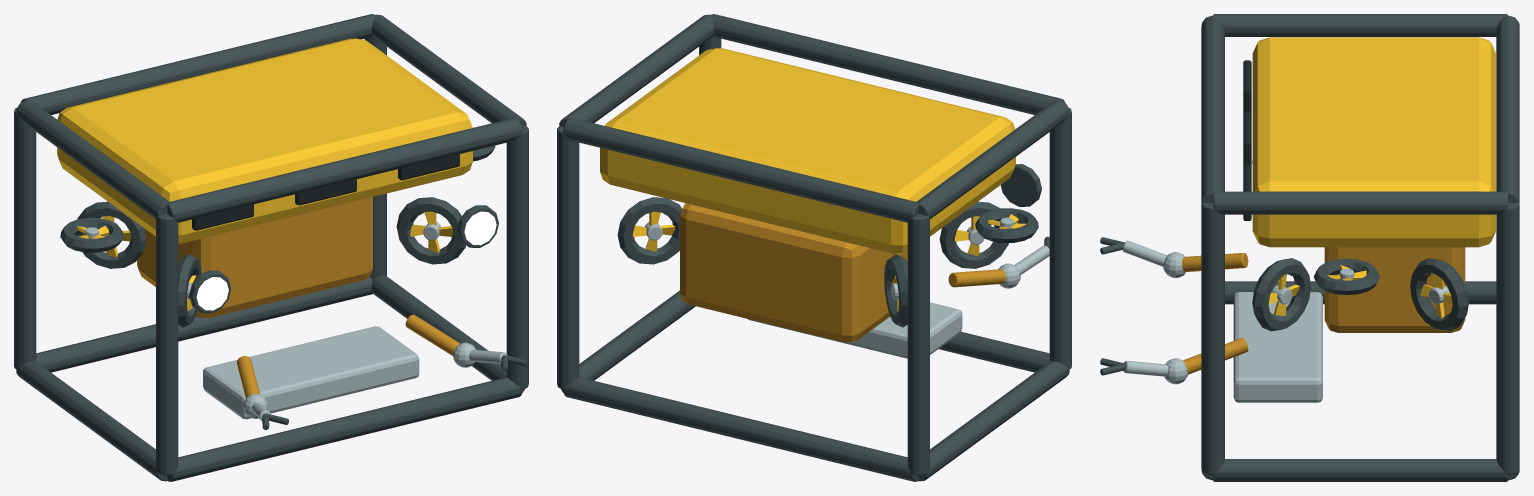
Rendered from rov-light-work.glb.
The picture shows the model from 3 angles, left to right: view 1: azimuth 30°, elevation 25°; view 2: azimuth 150°, elevation 25°; view 3: azimuth 270°, elevation 25°; orthographic projection. The views are drawn at different scales.
Visible parts, largest first — view 1: buoyancy, control_bay, tool_basket, light_frame_x_1_-1, light_frame_x_-1_-1, light_frame_x_1_1, light_frame_x_-1_1, light_frame_v_-1_-1, light_frame_v_1_-1, light_frame_v_-1_1, light_frame_y_1_-1, light_frame_y_-1_-1 (+16 smaller); view 2: buoyancy, control_bay, light_frame_x_1_1, light_frame_x_-1_1, light_frame_x_1_-1, light_frame_v_-1_1, light_frame_v_1_1, light_frame_v_-1_-1, light_frame_y_1_-1, light_frame_y_-1_-1, light_frame_y_1_1, light_frame_y_-1_1 (+8 smaller); view 3: buoyancy, tool_basket, control_bay, light_frame_y_1_1, light_frame_y_-1_1, light_frame_y_1_-1, light_frame_v_1_-1, light_frame_v_1_1, light_frame_x_1_-1, light_frame_x_1_1, light_h1_housing, light_h3_housing (+10 smaller).
Boxes of the visible parts, box(x1,y1,x2,y2) form: buoyancy: box(57, 38, 472, 243); control_bay: box(137, 197, 372, 318); tool_basket: box(203, 326, 419, 419); light_frame_x_1_-1: box(167, 118, 522, 222); light_frame_x_-1_-1: box(167, 377, 522, 481); light_frame_x_1_1: box(20, 14, 374, 114); light_frame_x_-1_1: box(36, 277, 372, 372); light_frame_v_-1_-1: box(156, 214, 178, 475); light_frame_v_1_-1: box(506, 126, 528, 389); light_frame_v_-1_1: box(14, 108, 36, 368); light_frame_y_1_-1: box(16, 100, 169, 219); light_frame_y_-1_-1: box(16, 361, 167, 481); buoyancy: box(600, 48, 1015, 253); control_bay: box(680, 203, 907, 342); light_frame_x_1_1: box(563, 118, 918, 222); light_frame_x_-1_1: box(563, 377, 918, 481); light_frame_x_1_-1: box(711, 14, 1065, 114); light_frame_v_-1_1: box(907, 214, 929, 475); light_frame_v_1_1: box(557, 126, 579, 389); light_frame_v_-1_-1: box(1049, 108, 1071, 368); light_frame_y_1_-1: box(916, 100, 1069, 219); light_frame_y_-1_-1: box(918, 361, 1069, 481); light_frame_y_1_1: box(559, 14, 714, 127); light_frame_y_-1_1: box(561, 290, 695, 392); buoyancy: box(1252, 37, 1495, 247); tool_basket: box(1233, 292, 1322, 402); control_bay: box(1324, 247, 1465, 332); light_frame_y_1_1: box(1213, 191, 1507, 214); light_frame_y_-1_1: box(1213, 459, 1507, 481); light_frame_y_1_-1: box(1213, 14, 1507, 36); light_frame_v_1_-1: box(1201, 203, 1224, 474); light_frame_v_1_1: box(1496, 203, 1519, 474); light_frame_x_1_-1: box(1201, 15, 1224, 203); light_frame_x_1_1: box(1496, 15, 1519, 203); light_h1_housing: box(1252, 258, 1311, 331); light_h3_housing: box(1410, 258, 1468, 331).
Size of the model in its own units: 2.99 by 1.86 by 2.45.
